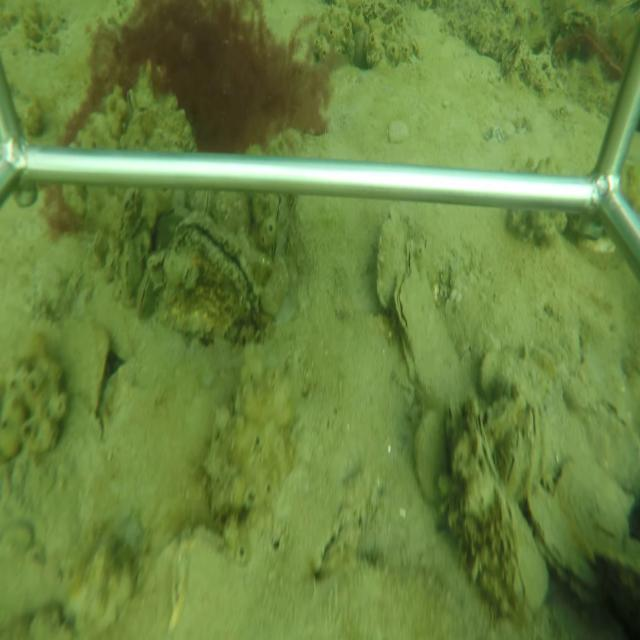Oyster-Closed: (390, 232, 483, 407), (525, 486, 601, 591), (471, 411, 501, 486), (265, 192, 293, 266), (119, 237, 142, 299), (504, 428, 525, 488), (135, 266, 154, 322)
Oyster-Indeterminate: (374, 205, 408, 309)
Oyster-Open: (171, 208, 263, 324)
